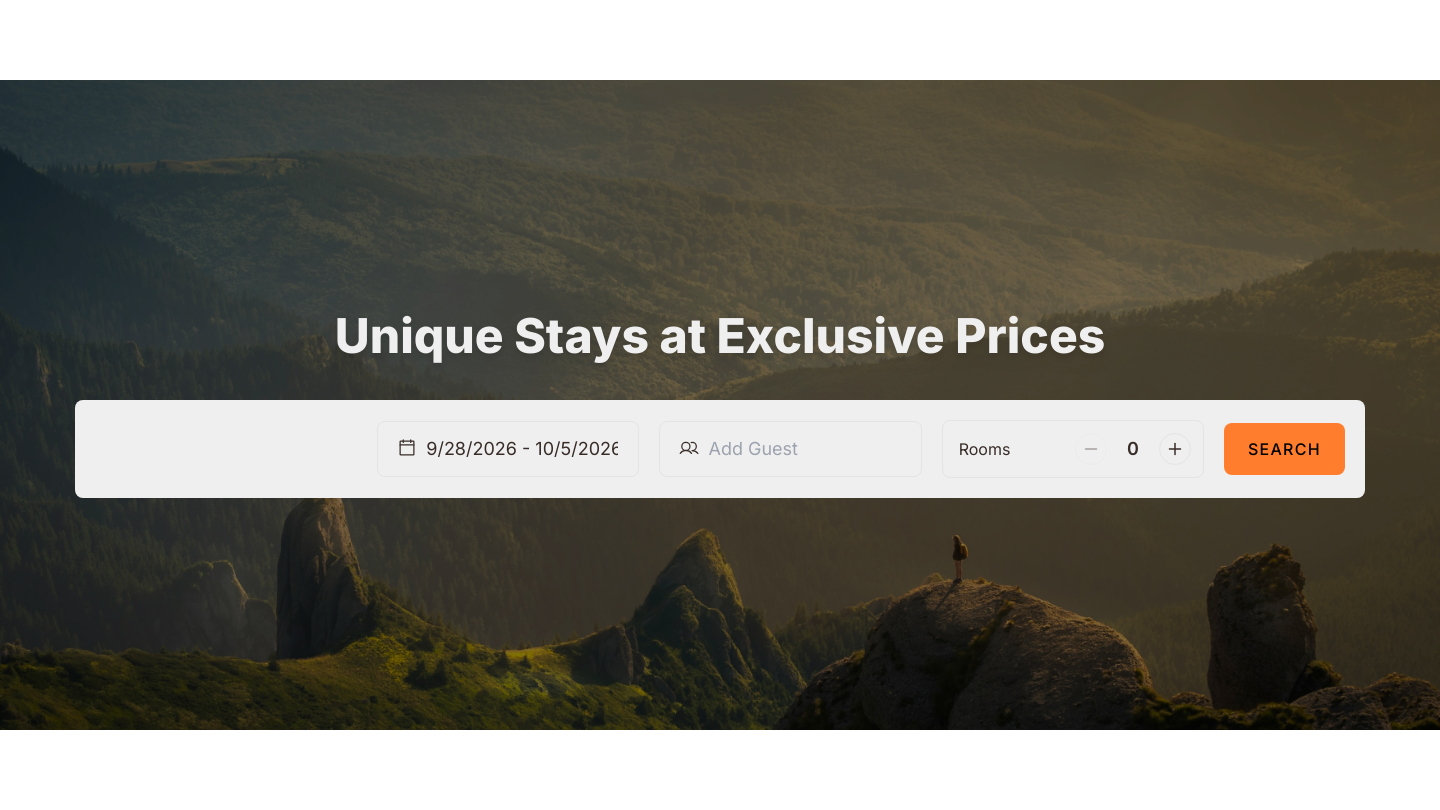
Test: DestinationSearch Component › increments room count
Click the 1st element with class "plus". click: (1175, 449)
box: [1159,433,1191,465]
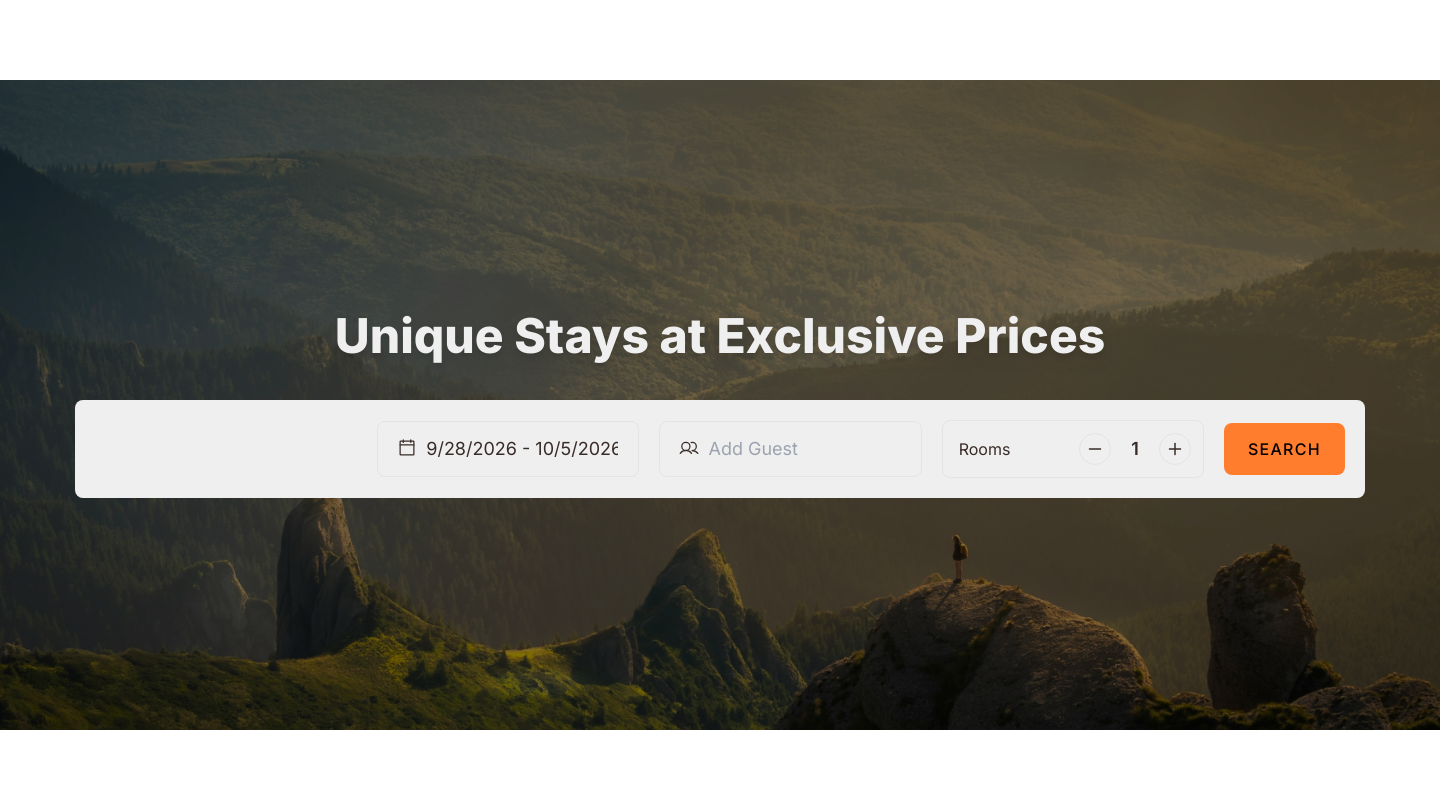
Result: the text with test id "room-count" reads "1" at [1131,438,1139,459]
Click the element with class "minus". click: (1095, 449)
box: [1079,433,1111,465]
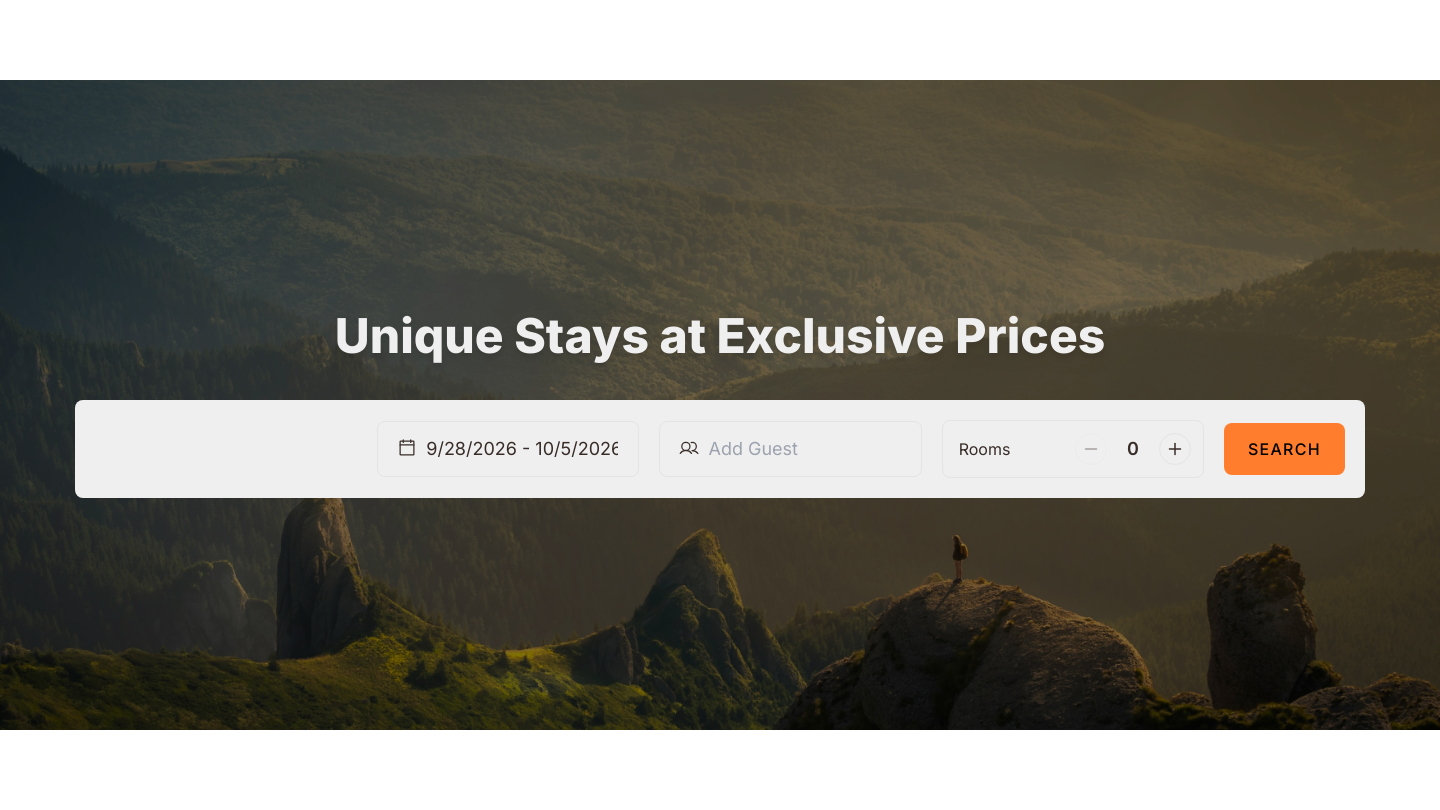
Result: the text with test id "room-count" reads "0" at [1127,438,1139,459]
